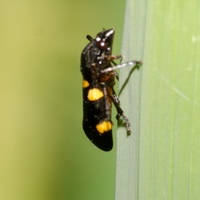insect: (80, 29, 141, 150)
